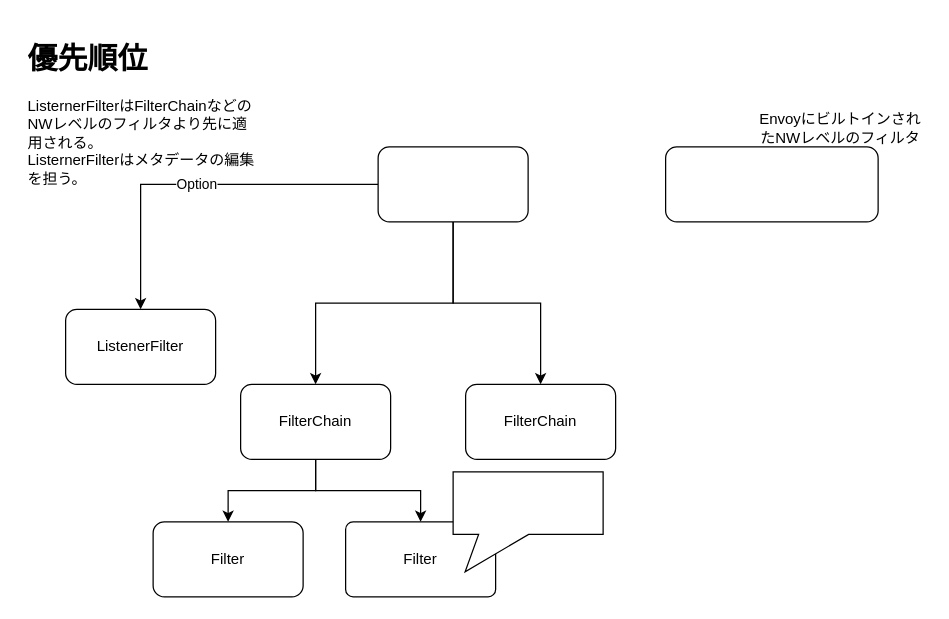
The diagram is 949 pixels wide and 619 high, and some of its shapes have lost their labels. Here are the shapes that lost their labels. From the top down, the centre of each, then its label:
the point at 452,184: Listener
the point at 771,184: HttpConnectionManager
the point at 527,521: L3(IP)、L4(Port)レベルのフィルタ
